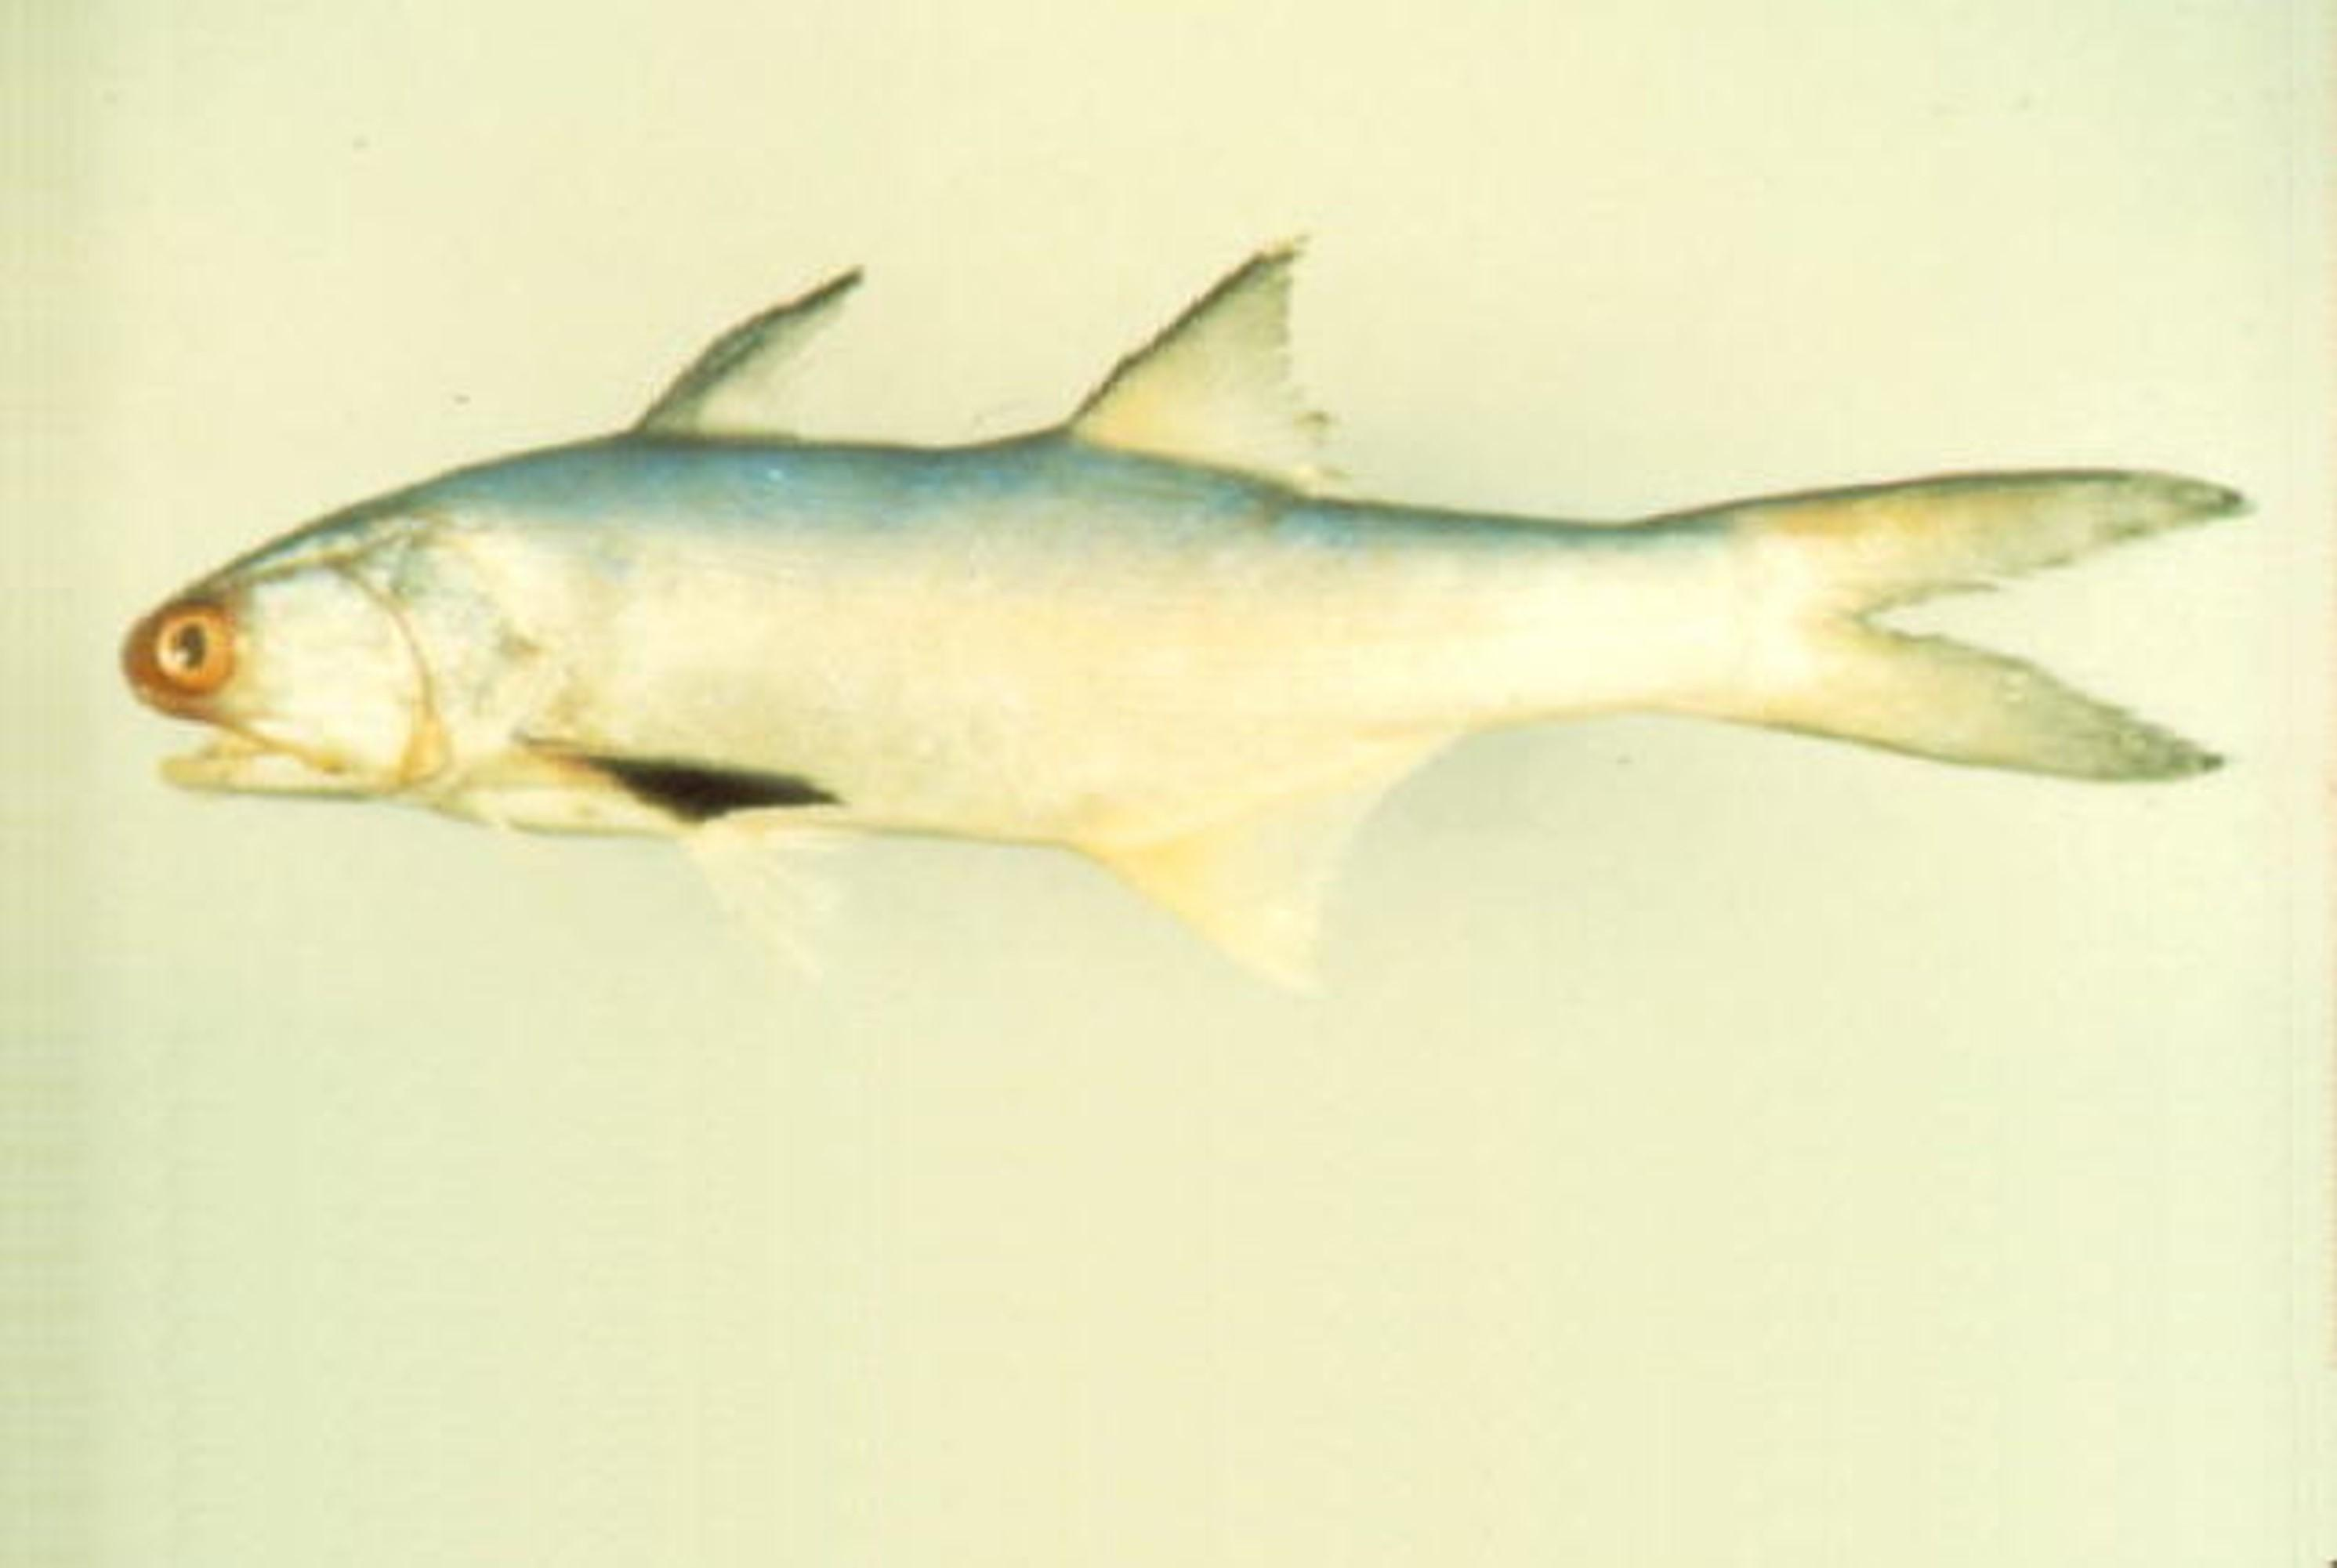Indo-Pacific Tarpon: (107, 224, 2269, 1011)
